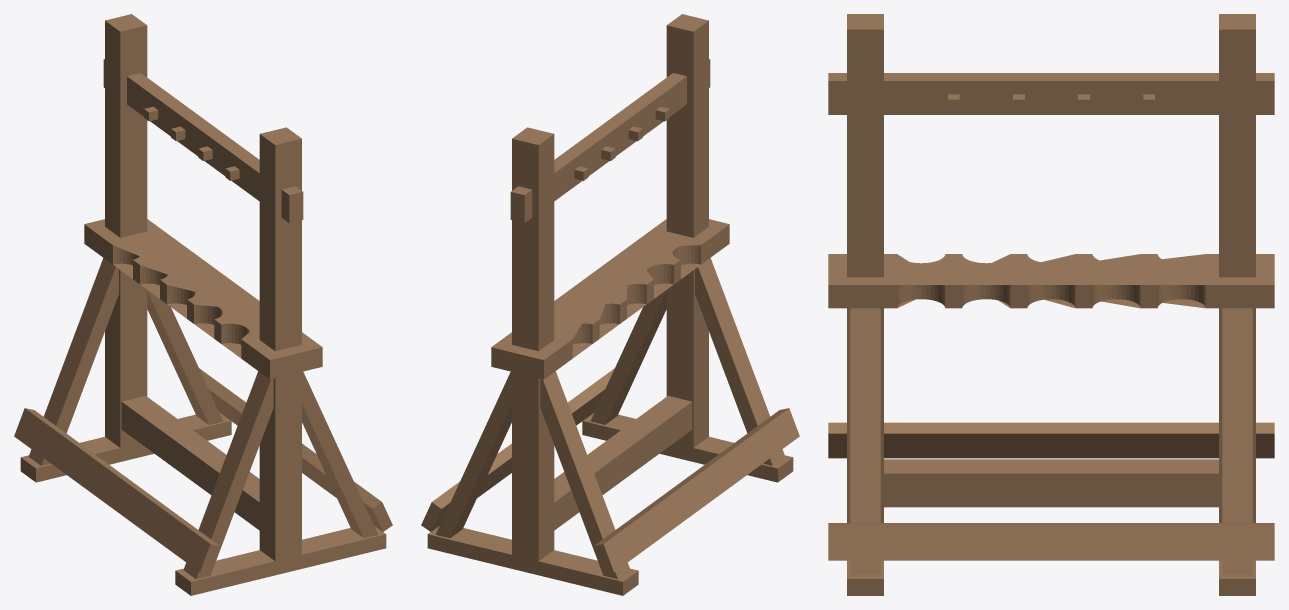
The model's file is WeaponRack.fbx.
3 renders of one model, left to right at view 1: azimuth 30°, elevation 25°; view 2: azimuth 150°, elevation 25°; view 3: azimuth 270°, elevation 25°, orthographic. The views are drawn at different scales.
Parts seen in each view (by area): view 1: Cube.016; view 2: Cube.016; view 3: Cube.016.
Part boxes in pixels (bbox=[...]): Cube.016: bbox=[14, 14, 392, 595]; Cube.016: bbox=[421, 14, 799, 595]; Cube.016: bbox=[828, 14, 1274, 595].
Bounding box in the file's own units: 1457 × 3066 × 2400.
